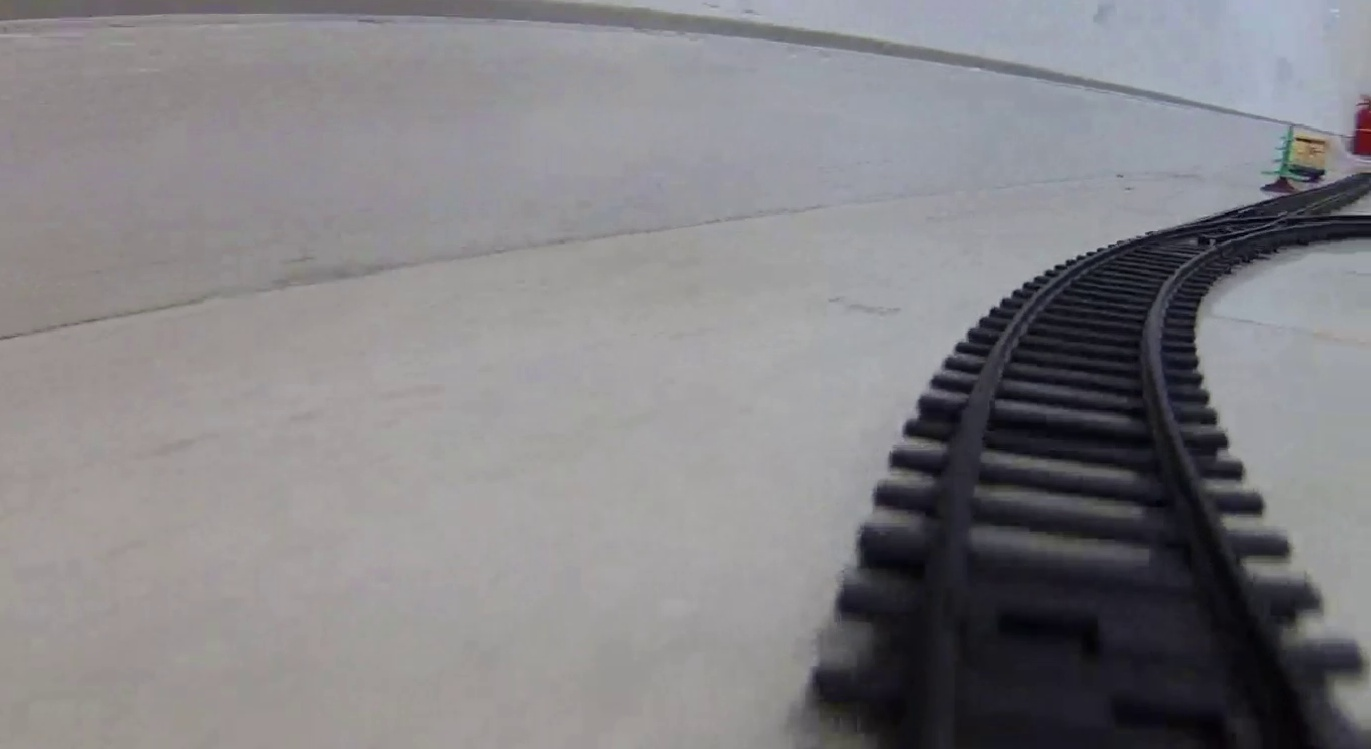tree: (1259, 122, 1299, 193)
